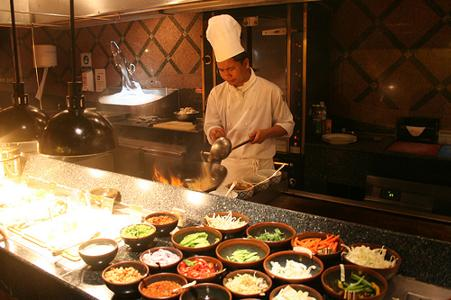person: (204, 14, 298, 183)
